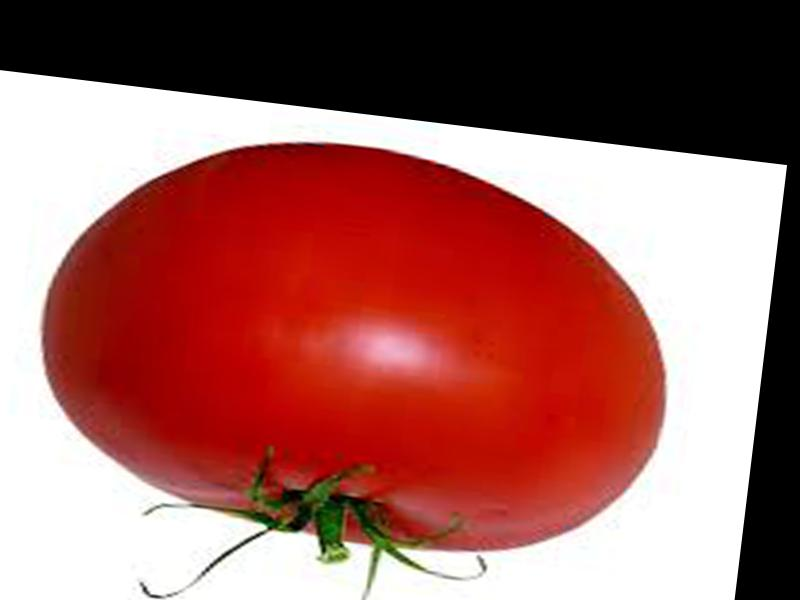Tomato: (26, 113, 685, 576)
